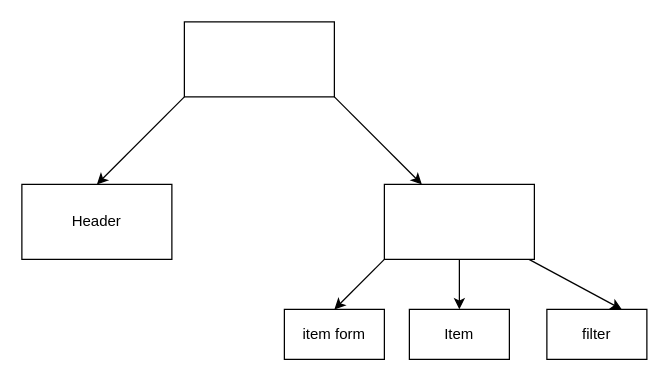
Image size: 669x381. Some labels were removed from this diagram. Each missing label, with the box of its shape:
app: (183, 21, 334, 97)
Shopping List: (383, 183, 534, 259)
